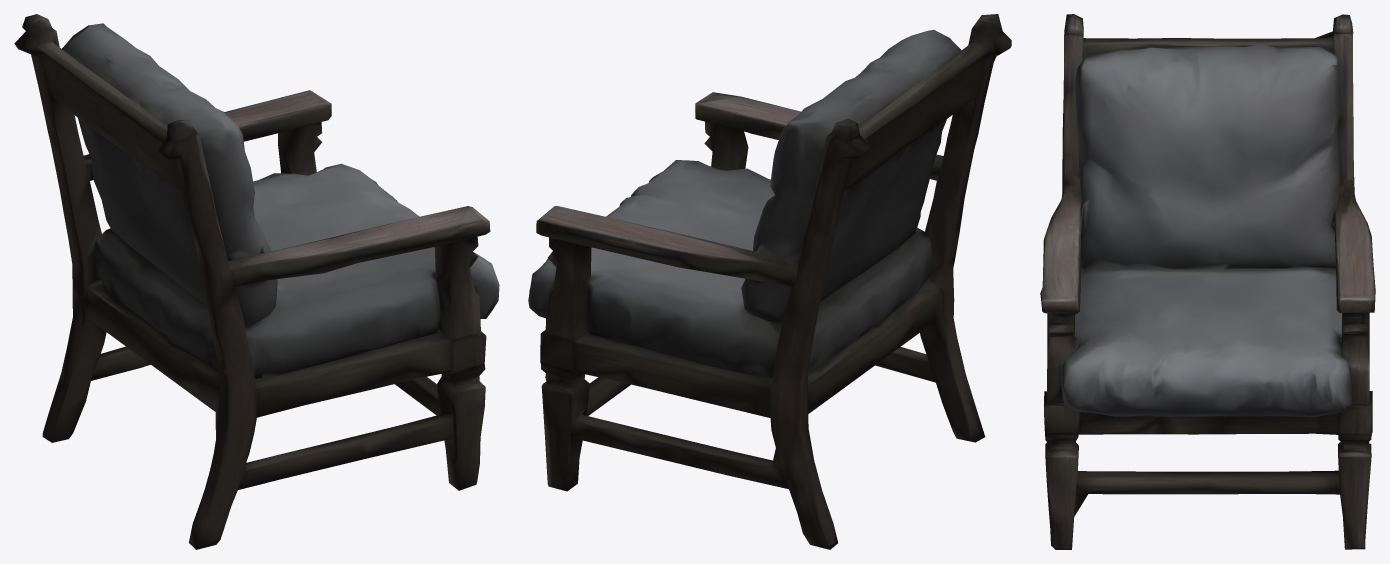
File: wooden+armchair+3d+model.glb
The picture shows the model from 3 angles, left to right: view 1: azimuth 30°, elevation 25°; view 2: azimuth 150°, elevation 25°; view 3: azimuth 270°, elevation 25°; orthographic projection. The views are drawn at different scales.
Visible parts, largest first — view 1: tripo_node_2ac55576-5dcf-4b90-bd89-9a2a9bae84e6; view 2: tripo_node_2ac55576-5dcf-4b90-bd89-9a2a9bae84e6; view 3: tripo_node_2ac55576-5dcf-4b90-bd89-9a2a9bae84e6.
Boxes of the visible parts, x1=… form: tripo_node_2ac55576-5dcf-4b90-bd89-9a2a9bae84e6: x1=14, y1=14, x2=499, y2=549; tripo_node_2ac55576-5dcf-4b90-bd89-9a2a9bae84e6: x1=528, y1=14, x2=1011, y2=549; tripo_node_2ac55576-5dcf-4b90-bd89-9a2a9bae84e6: x1=1040, y1=14, x2=1375, y2=549.
Bounding box in the file's own units: 0.8374 × 1 × 0.7547.
Materials: 1 (1 with a texture image).
